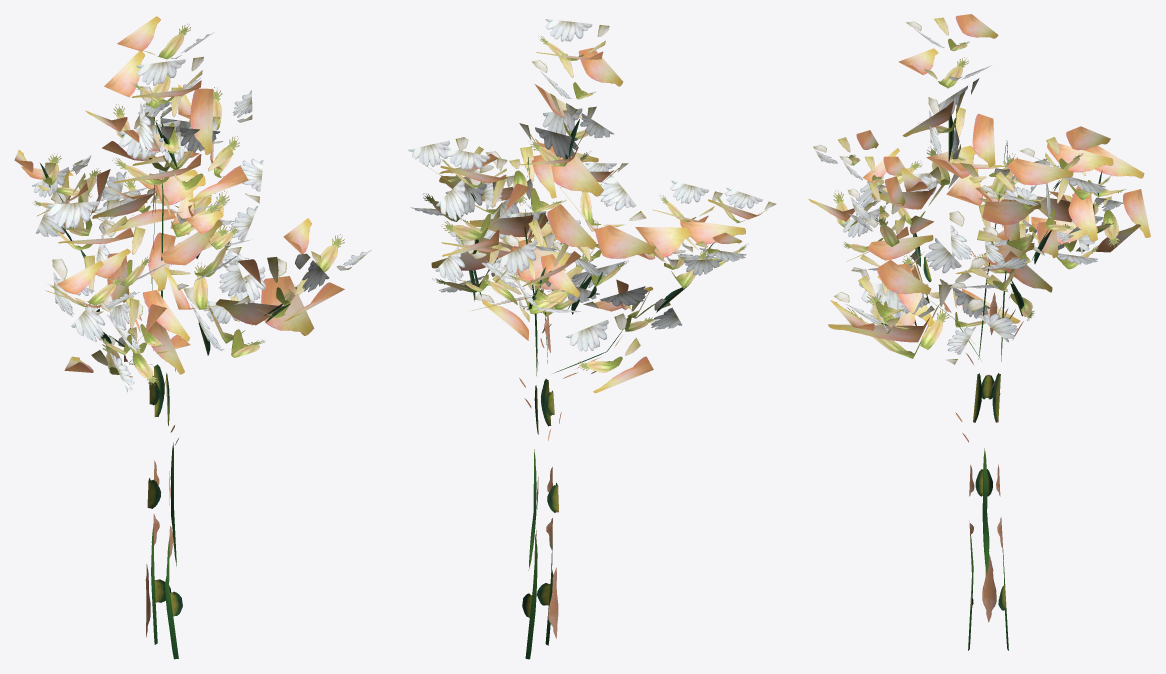
File: S_Tree_Green057.FBX
3 renders of one model, left to right at view 1: azimuth 30°, elevation 25°; view 2: azimuth 150°, elevation 25°; view 3: azimuth 270°, elevation 25°, orthographic. The views are drawn at different scales.
Visible parts, largest first — view 1: S_Tree_Green057; view 2: S_Tree_Green057; view 3: S_Tree_Green057.
Part boxes in pixels (x1,y1,x2,y2): S_Tree_Green057: (14,16,371,659); S_Tree_Green057: (408,19,776,659); S_Tree_Green057: (808,14,1150,650).
Bounding box in the file's own units: 637 × 612 × 1231.
